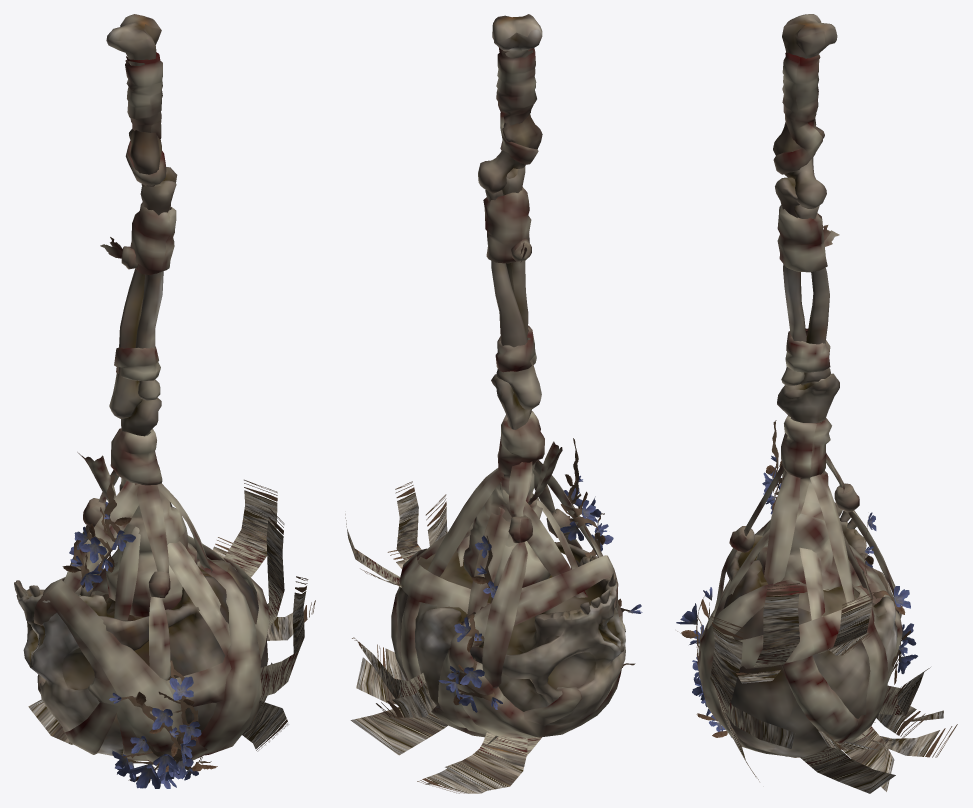
The model's file is weapon-wp_a_0860.glb.
3 views of the same model, side by side, from view 1: azimuth 30°, elevation 25°; view 2: azimuth 150°, elevation 25°; view 3: azimuth 270°, elevation 25° (orthographic). The views are drawn at different scales.
Visible parts, largest first — view 1: wp_a_0860_mesh; view 2: wp_a_0860_mesh; view 3: wp_a_0860_mesh.
Part boxes in pixels (x1,y1,x2,y2): wp_a_0860_mesh: (14,14,315,788); wp_a_0860_mesh: (345,14,642,793); wp_a_0860_mesh: (676,14,957,793).
Bounding box in the file's own units: 0.4428 × 1.21 × 0.4215.
2 materials, 2 textured.
